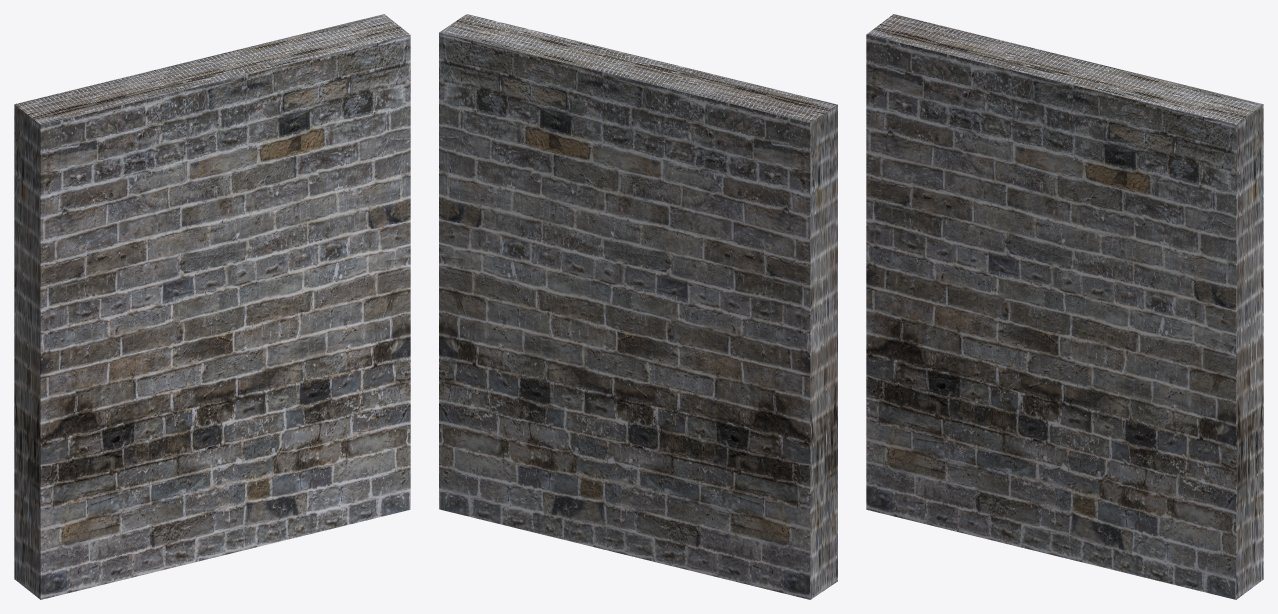
The model's file is brick_wall.fbx.
3 views of the same model, side by side, from view 1: azimuth 30°, elevation 25°; view 2: azimuth 150°, elevation 25°; view 3: azimuth 330°, elevation 25° (orthographic).
Parts seen in each view (by area): view 1: Cube; view 2: Cube; view 3: Cube.
Boxes of the visible parts, left/top/right/bottom form: Cube: left=14, top=14, right=410, bottom=599; Cube: left=439, top=14, right=837, bottom=599; Cube: left=866, top=14, right=1263, bottom=599.
Size of the model in its own units: 255 by 313 by 31.99.
Materials: 1 (1 with a texture image).
